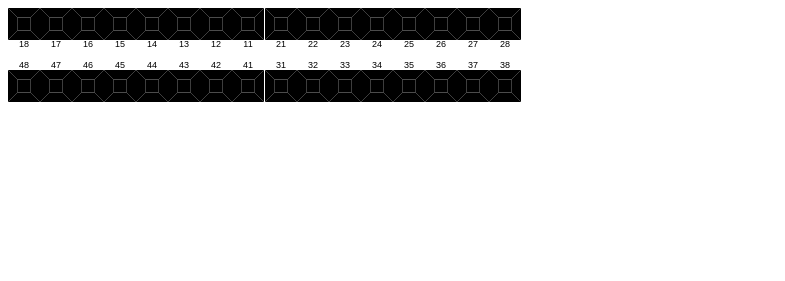
Test: BipOdontogram — interactividad › clic en un diente abre el panel de detalle
The image size is (785, 281).
Step 1. Click the button "11" → (248,28), box [232,8,264,49]
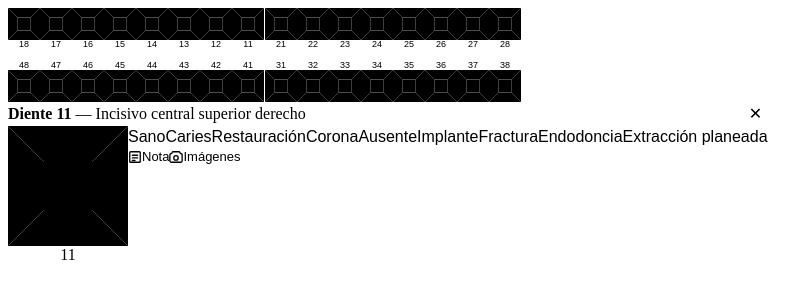
Expected: the element with test id "tooth-detail-panel" is shown, [8,102,768,264]
